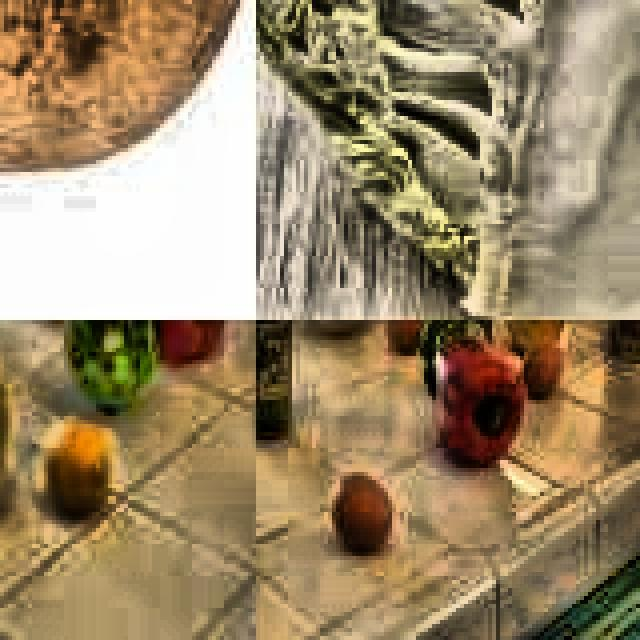bell_pepper: (432, 348, 530, 476), (68, 320, 152, 396), (416, 320, 496, 396), (128, 320, 240, 356)
cabbage: (256, 0, 640, 320)
egg: (324, 468, 398, 554), (516, 352, 570, 400), (384, 320, 428, 352)
